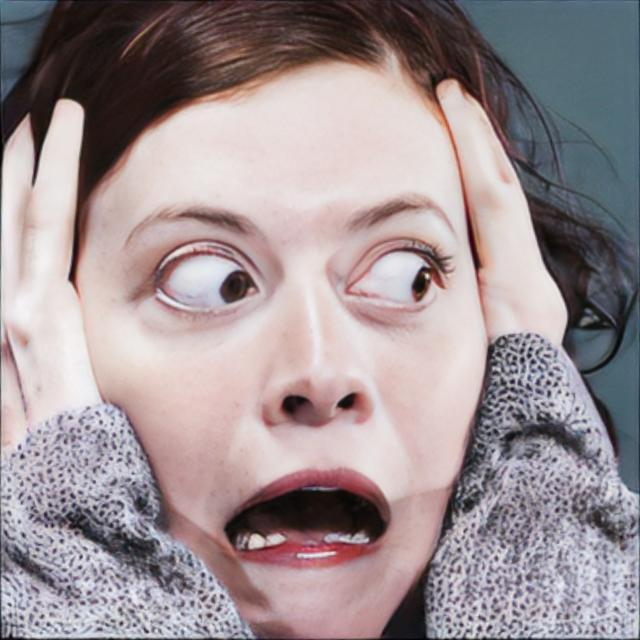fear: (76, 53, 489, 640)
